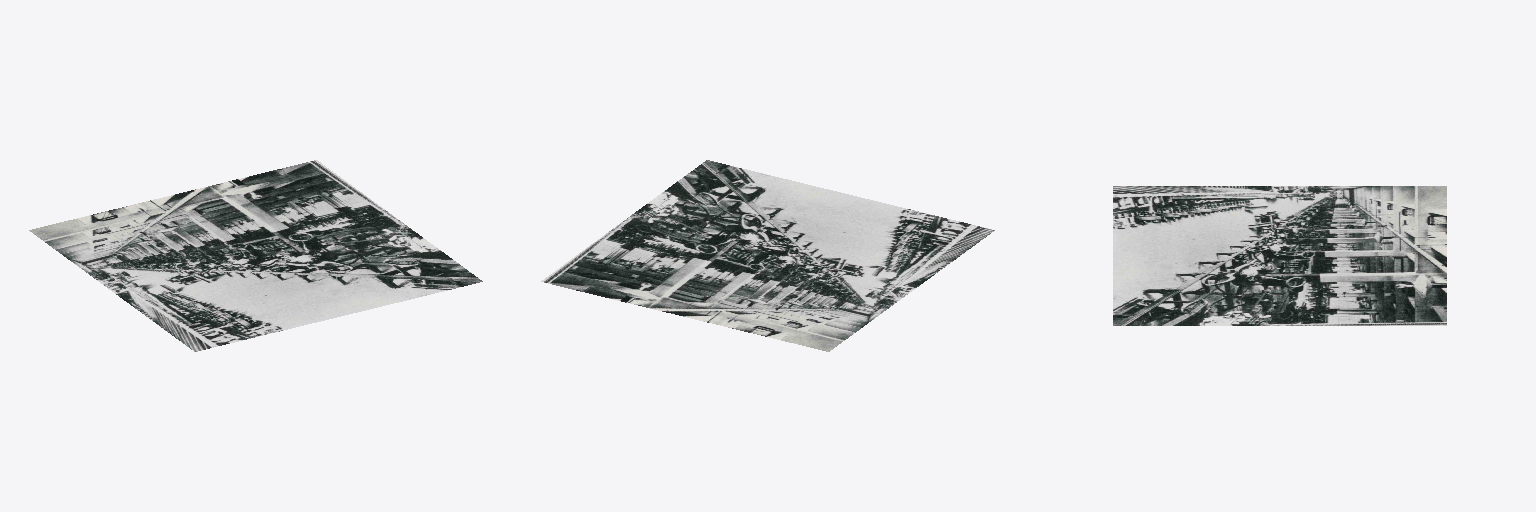
3 views of the same model, side by side, from view 1: azimuth 30°, elevation 25°; view 2: azimuth 150°, elevation 25°; view 3: azimuth 270°, elevation 25° (orthographic).
Visible parts, largest first — view 1: Plane001; view 2: Plane001; view 3: Plane001.
Part boxes in pixels (x1,y1,x2,y2): Plane001: (29,160,482,351); Plane001: (541,160,994,351); Plane001: (1113,186,1446,325).
Size of the model in its own units: 33.98 by 0 by 33.98.
1 materials, 1 textured.